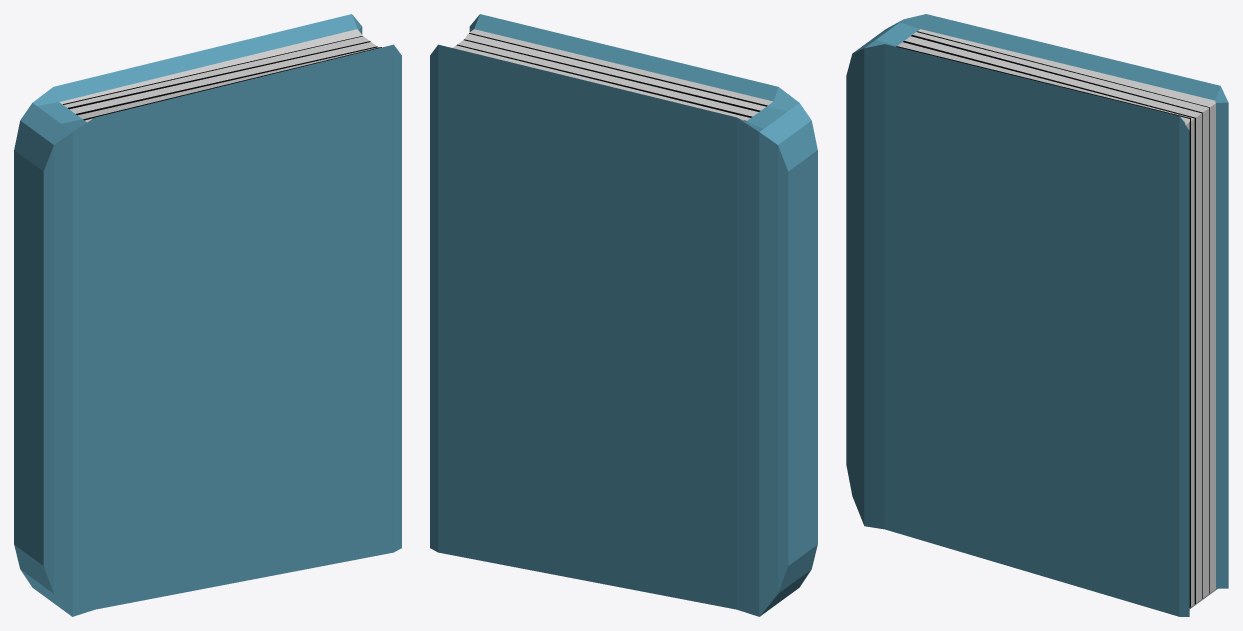
The model's file is buchTürkis.fbx.
The picture shows the model from 3 angles, left to right: view 1: azimuth 30°, elevation 25°; view 2: azimuth 150°, elevation 25°; view 3: azimuth 330°, elevation 25°; orthographic projection.
Visible parts, largest first — view 1: Cube; view 2: Cube; view 3: Cube.
Boxes of the visible parts, x1,y1,x2,y2 form: Cube: (14, 14, 401, 616); Cube: (430, 14, 817, 616); Cube: (846, 14, 1228, 616).
Bounding box in the file's own units: 14.64 × 20.12 × 3.
